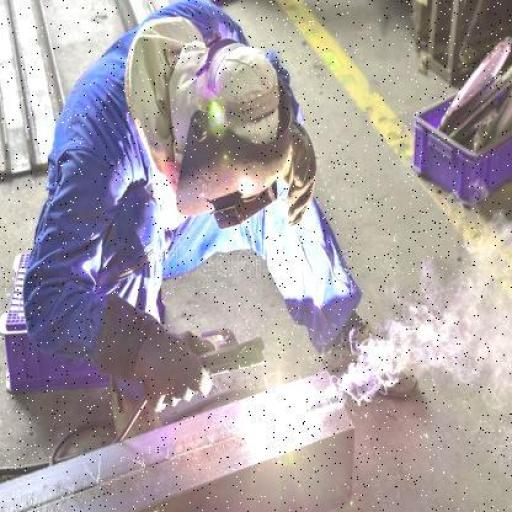person: (8, 2, 418, 444)
safety_shoe: (320, 319, 415, 399), (108, 375, 169, 442)
